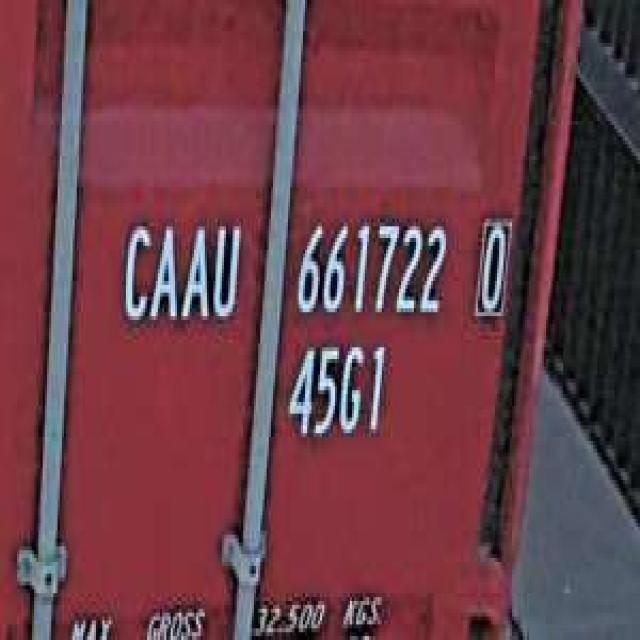dv: (469, 203, 514, 328)
owner: (115, 207, 243, 336)
serial: (288, 207, 452, 328)
size: (282, 332, 391, 452)
